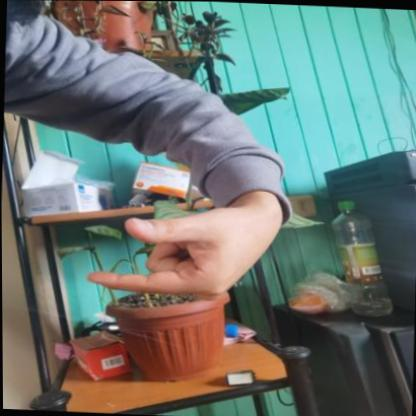G: (75, 175, 294, 313)
